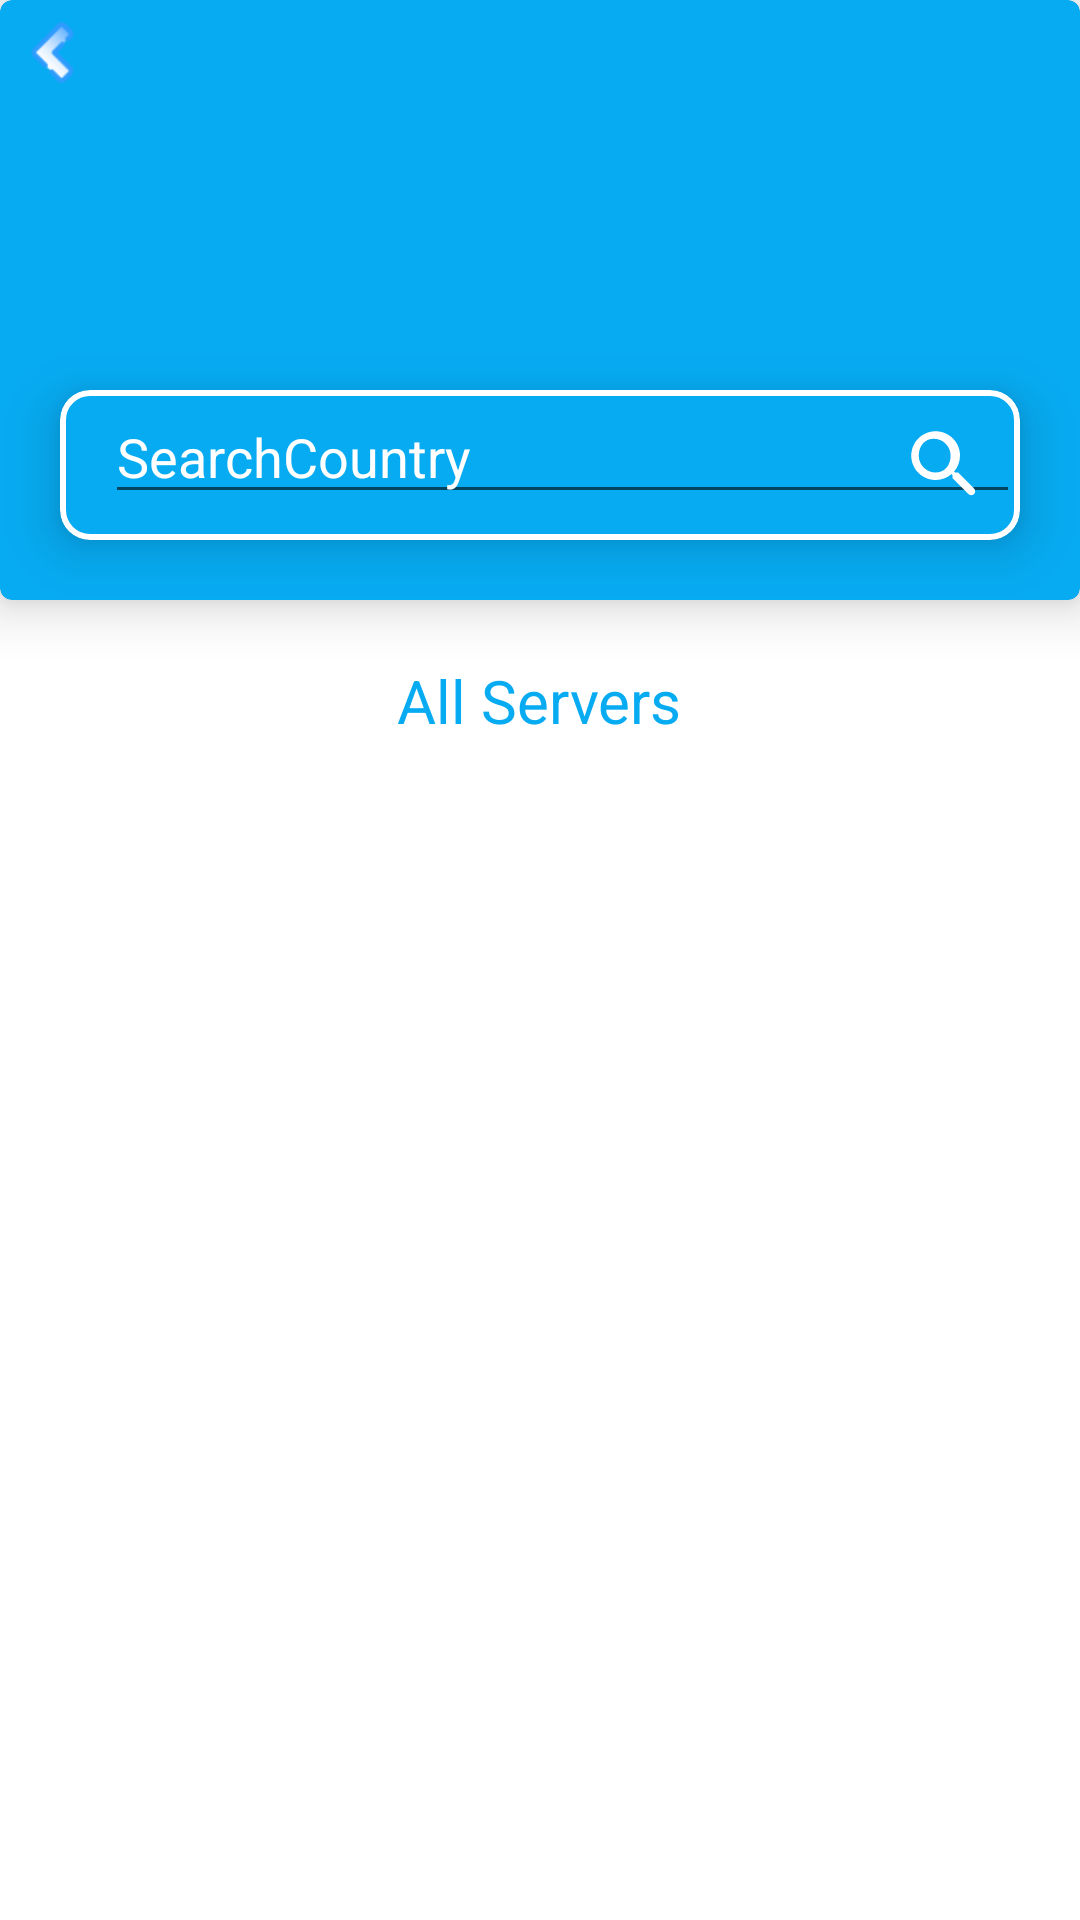

Icon bounding boxes for this 1080*1920 phone screenshot, format bbox=(x1, y1, x2, y2):
back: bbox=(32, 23, 73, 82)
